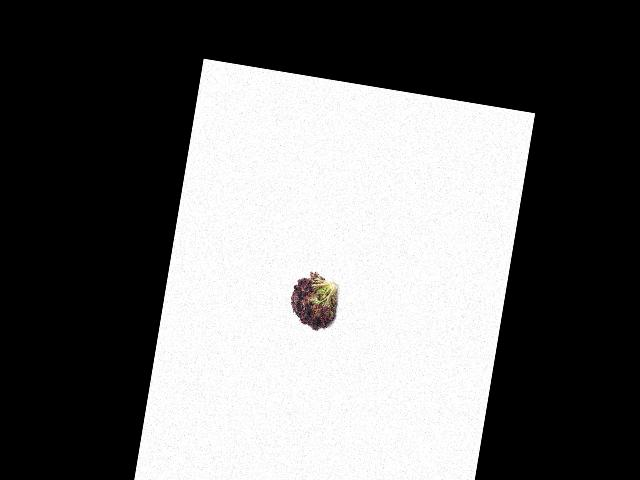lettuce: (284, 271, 344, 336)
